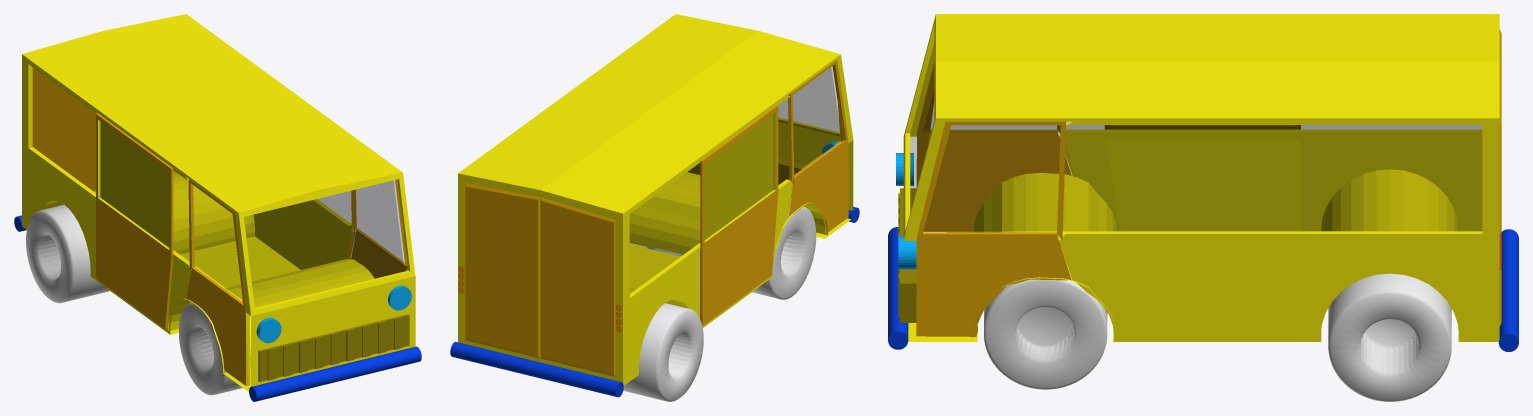
Rendered from DRAGvAN.glb.
3 renders of one model, left to right at view 1: azimuth 30°, elevation 25°; view 2: azimuth 150°, elevation 25°; view 3: azimuth 270°, elevation 25°, orthographic. The views are drawn at different scales.
Parts seen in each view (by area): view 1: van, wheel-RR, wheel-FR; view 2: van, wheel-RR, wheel-FR; view 3: van, wheel-RL, wheel-FL.
Part boxes in pixels (<box>): van: <box>14,14,421,401</box>; wheel-RR: <box>26,204,109,303</box>; wheel-FR: <box>179,303,250,395</box>; van: <box>450,14,859,397</box>; wheel-RR: <box>623,303,703,401</box>; wheel-FR: <box>752,206,816,299</box>; van: <box>888,14,1518,351</box>; wheel-RL: <box>1328,273,1451,401</box>; wheel-FL: <box>984,279,1107,389</box>.
Bounding box in the file's own units: 2.38 × 2.5 × 5.11.
